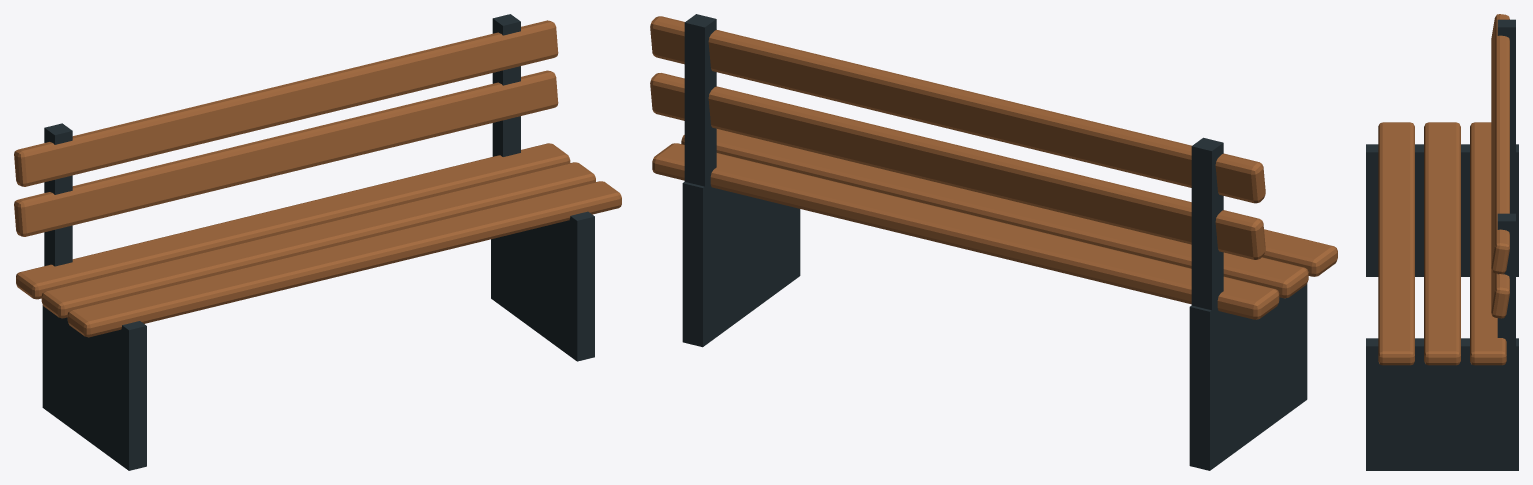
Rendered from foot_bench.glb.
The picture shows the model from 3 angles, left to right: view 1: azimuth 30°, elevation 25°; view 2: azimuth 150°, elevation 25°; view 3: azimuth 270°, elevation 25°; orthographic projection. The views are drawn at different scales.
Parts seen in each view (by area): view 1: FootBench_body; view 2: FootBench_body; view 3: FootBench_body.
Boxes of the visible parts, <box> form: FootBench_body: <box>14,14,621,470</box>; FootBench_body: <box>650,14,1337,470</box>; FootBench_body: <box>1366,14,1518,470</box>.
Bounding box in the file's own units: 1.8 × 0.9 × 0.5.
